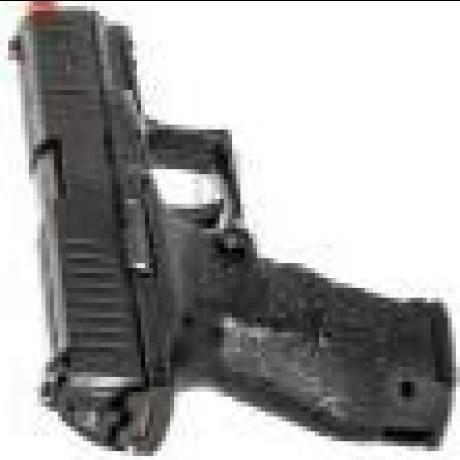weapon: (8, 11, 452, 451)
